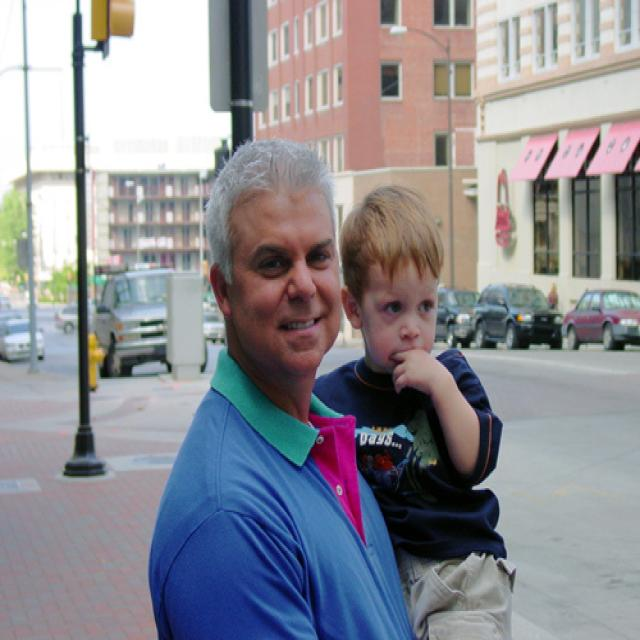light_vehicle: (90, 265, 210, 377), (468, 276, 564, 352), (558, 282, 639, 352), (432, 284, 482, 346), (0, 314, 46, 364), (50, 295, 78, 331)
